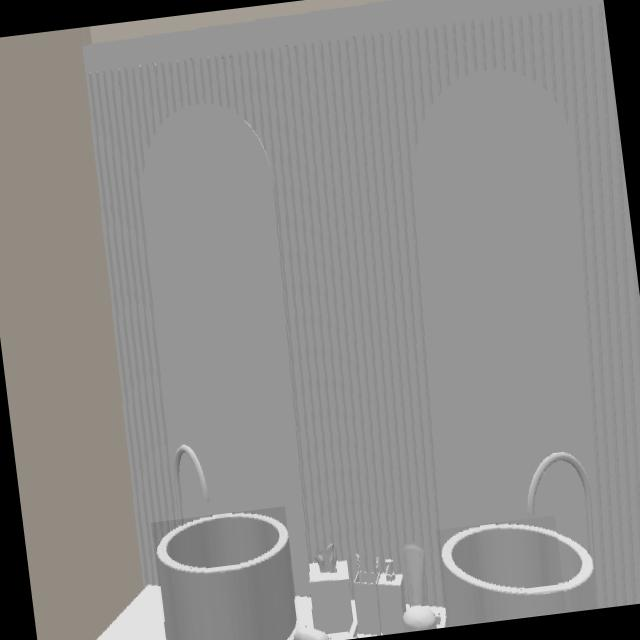washbasin: (154, 513, 297, 640), (439, 522, 566, 616)
